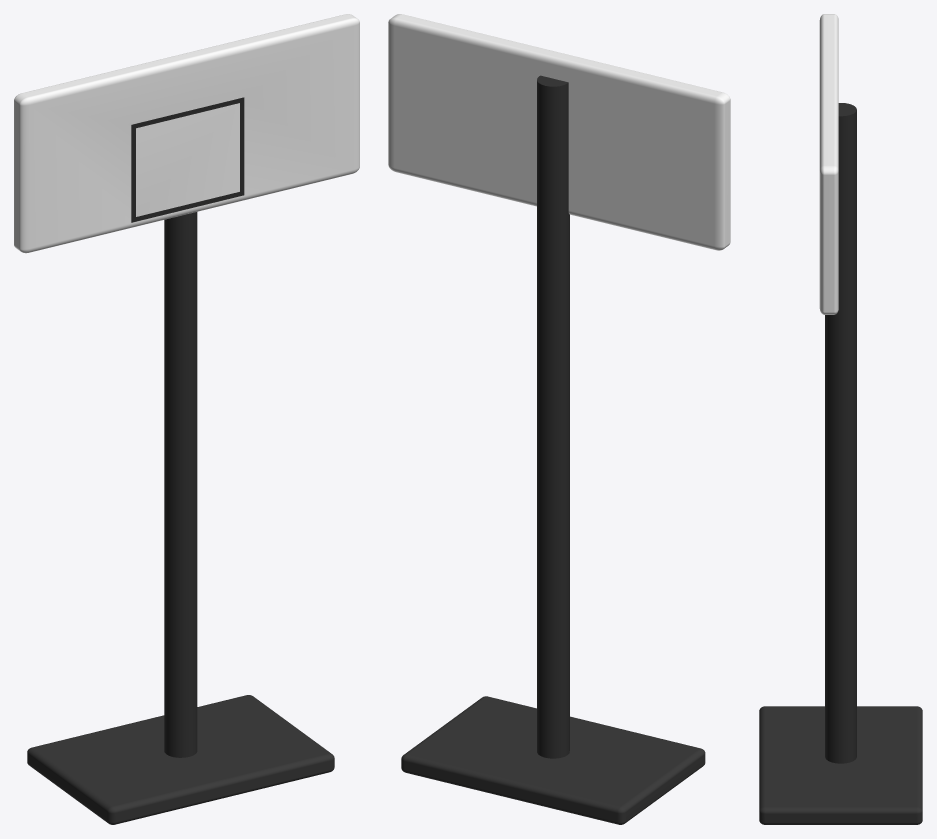
File: BasketballStand.fbx
The picture shows the model from 3 angles, left to right: view 1: azimuth 30°, elevation 25°; view 2: azimuth 150°, elevation 25°; view 3: azimuth 270°, elevation 25°; orthographic projection. The views are drawn at different scales.
Parts seen in each view (by area): view 1: Stand; view 2: Stand; view 3: Stand.
Boxes of the visible parts, <box> form: Stand: <box>14,14,359,824</box>; Stand: <box>388,14,730,824</box>; Stand: <box>759,14,922,824</box>.
Size of the model in its own units: 188 by 380 by 82.26.
